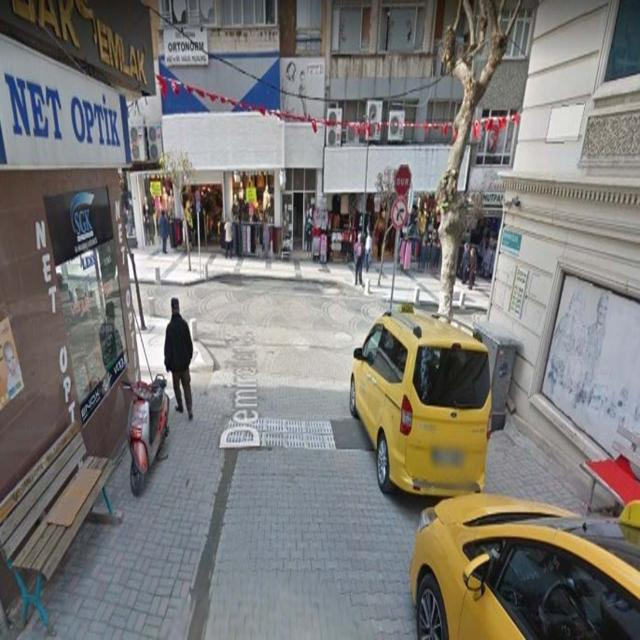dur: (395, 165, 411, 198)
sagadonulmez: (391, 198, 407, 228)
